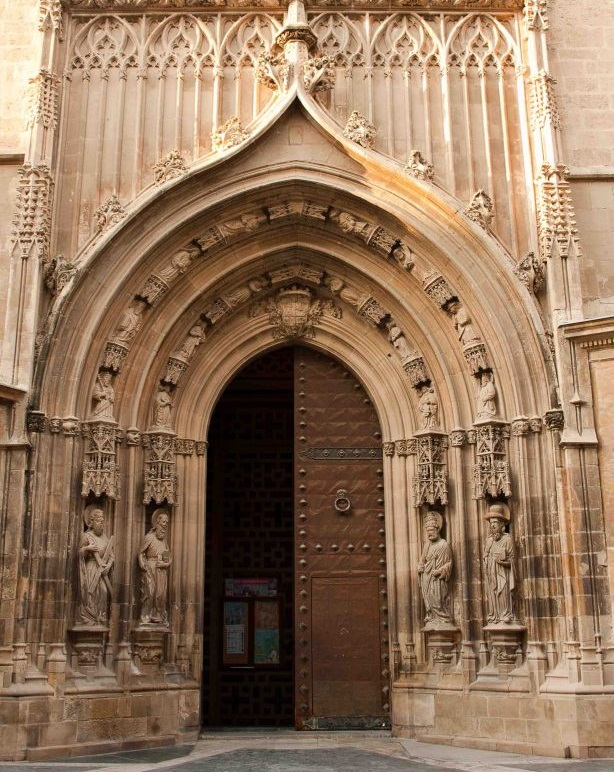arco-apuntado: (76, 176, 501, 420)
arco-conopial: (128, 84, 473, 211)
